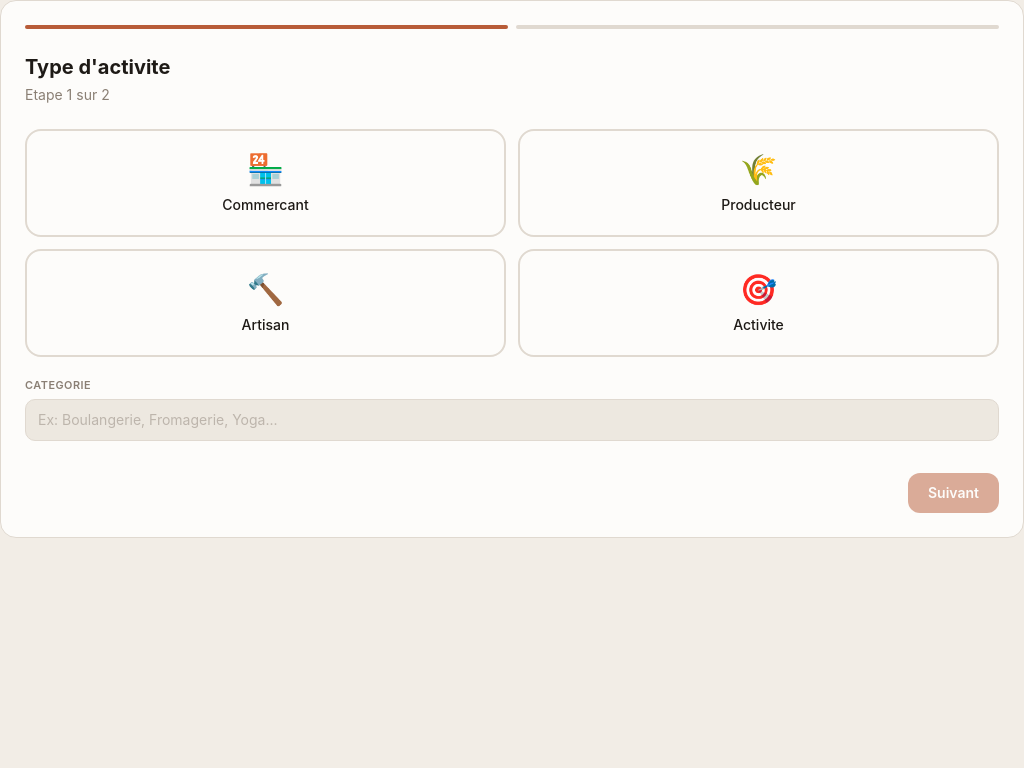
Test case: OnboardingWizard › validates step 2 requires shop name
Click the text "Commercant".
click(265, 205)  # box [222,195,309,215]
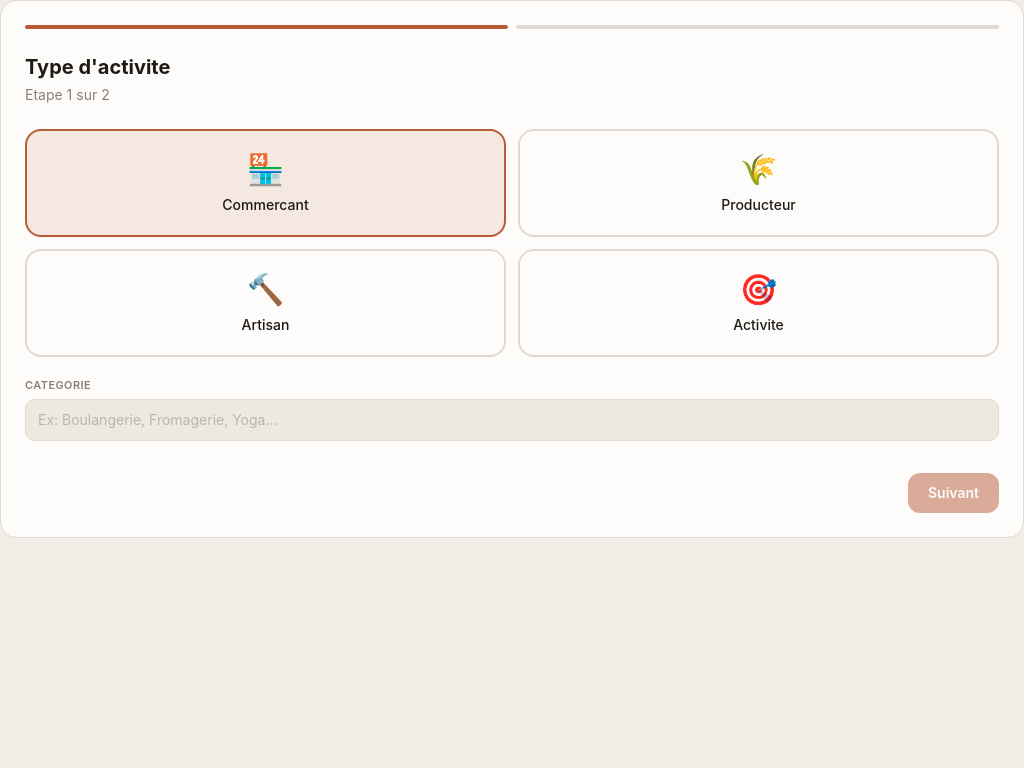
Type "Boulangerie" into the field with placeholder "Ex: Boulangerie, Fromagerie, Yoga...".
click(512, 420); type("Boulangerie")  # box [25,399,999,441]
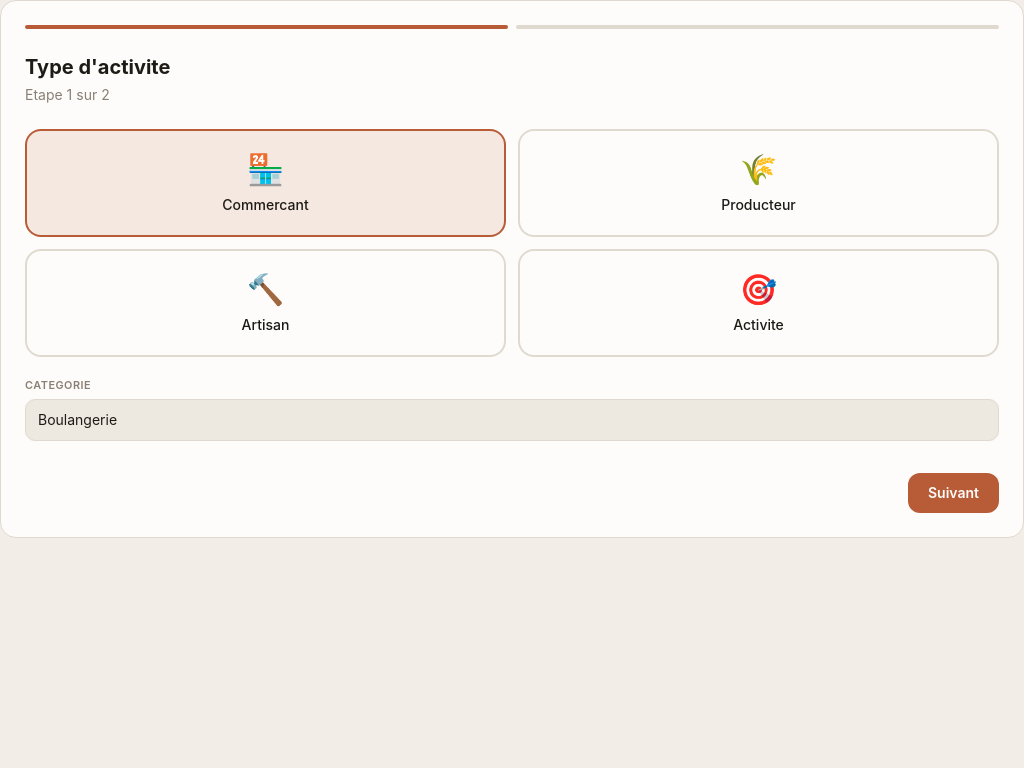
Click the button "Suivant".
click(954, 493)  # box [908,473,999,513]
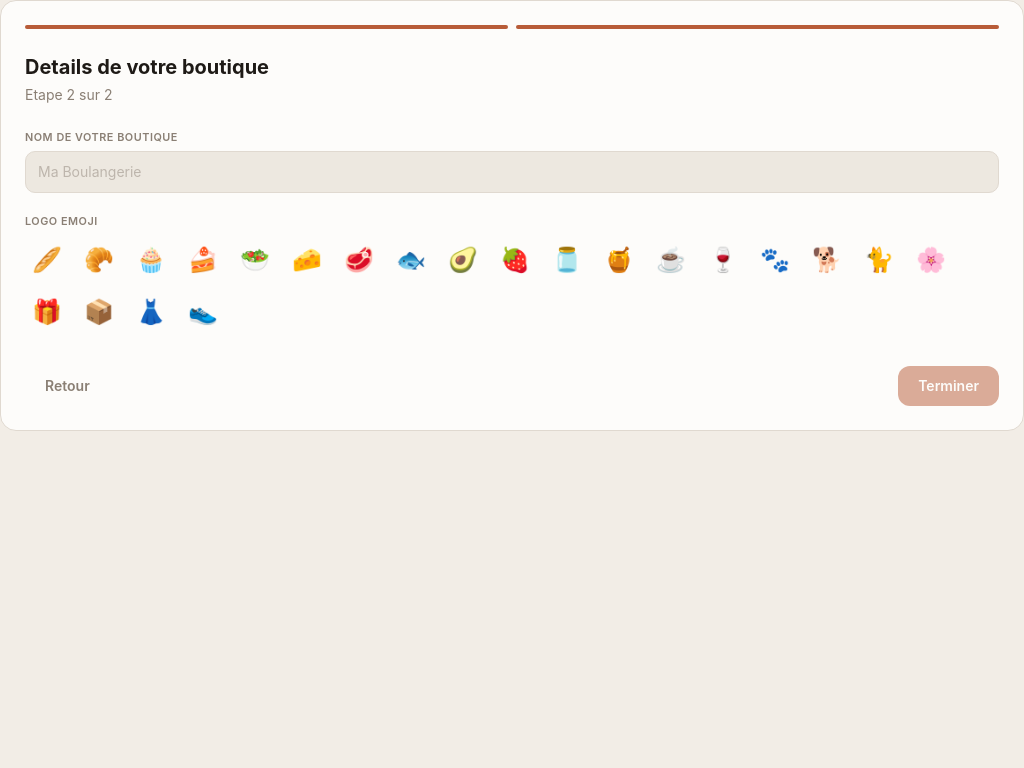
Expected: the button "Terminer" is disabled, [898,366,999,406]
